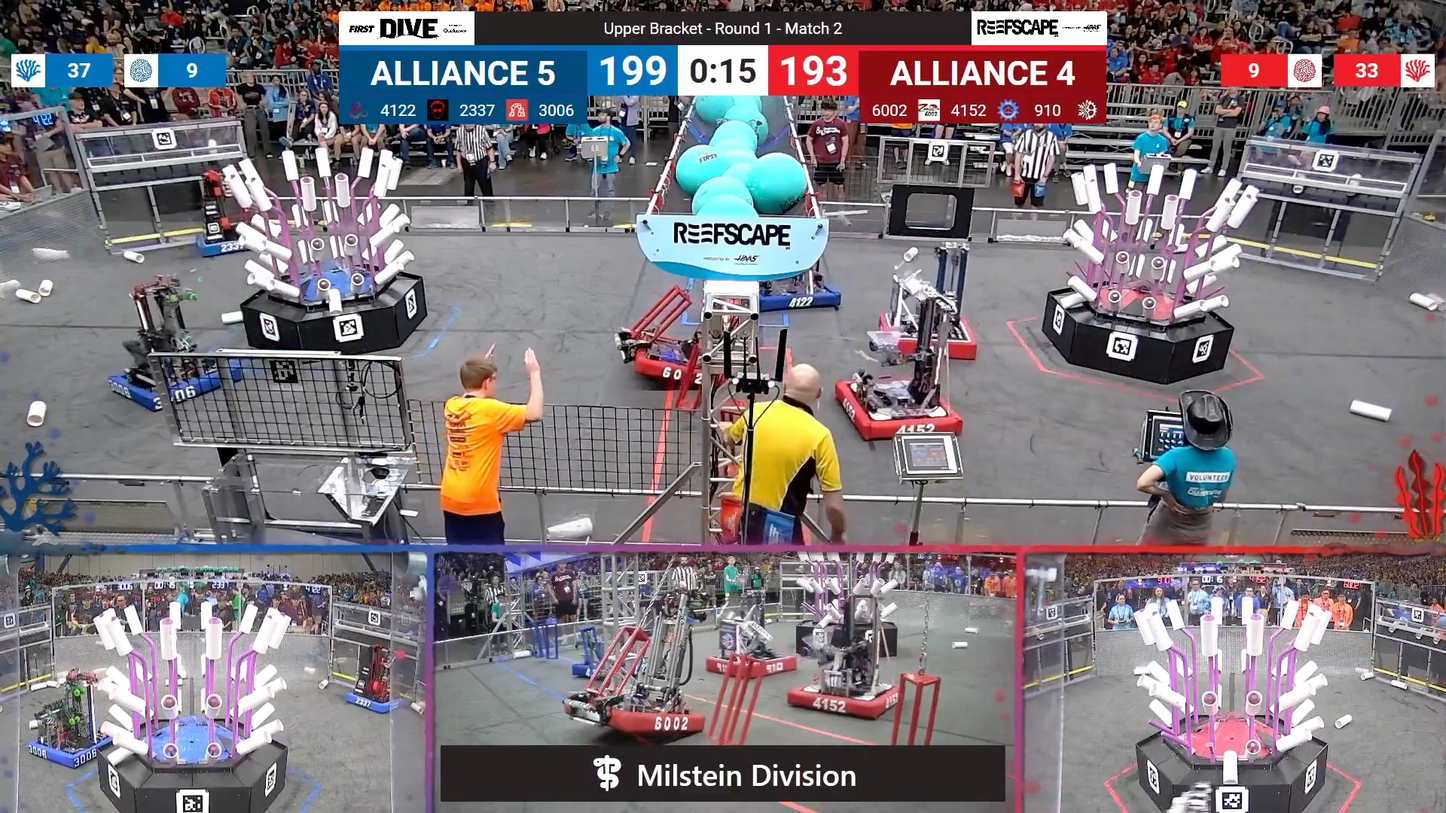bumpers: (831, 378, 968, 442), (102, 361, 239, 411), (867, 312, 990, 363), (573, 694, 703, 735), (783, 676, 904, 718), (621, 337, 706, 388), (22, 726, 120, 769), (751, 276, 843, 312), (706, 650, 801, 678), (189, 227, 265, 262), (337, 688, 413, 719), (566, 661, 624, 680)
